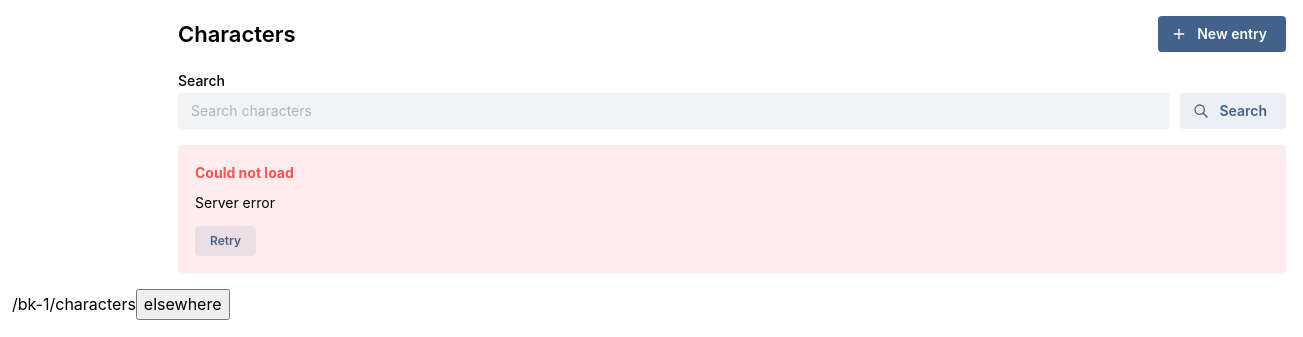
Test: a failed load shows the trio's error state with a retry (DoD-7) › DoD-7: a failed load renders the error state and the retry re-fetches
Check: the text "Aria Stormcrow" is not shown
Click the button "Retry".
click(226, 241)  # box [195,226,256,256]
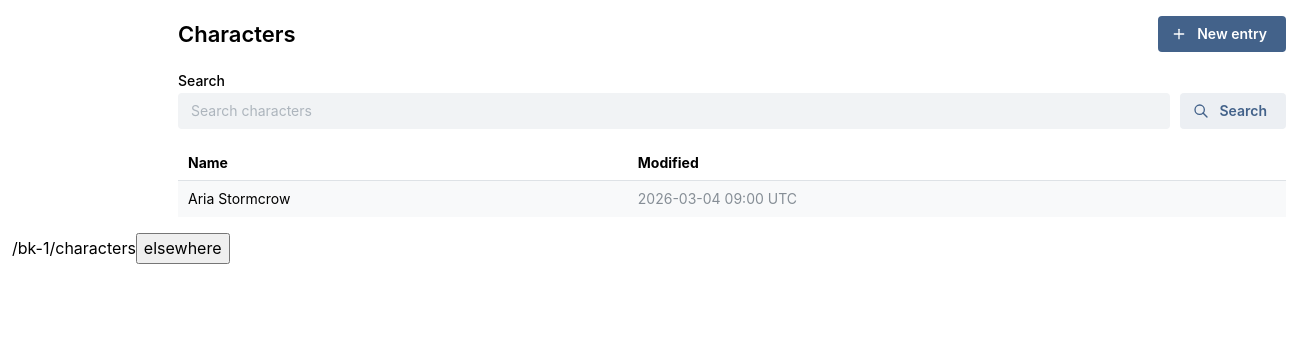
Check: the text "Aria Stormcrow" is shown, box [188,190,290,210]
